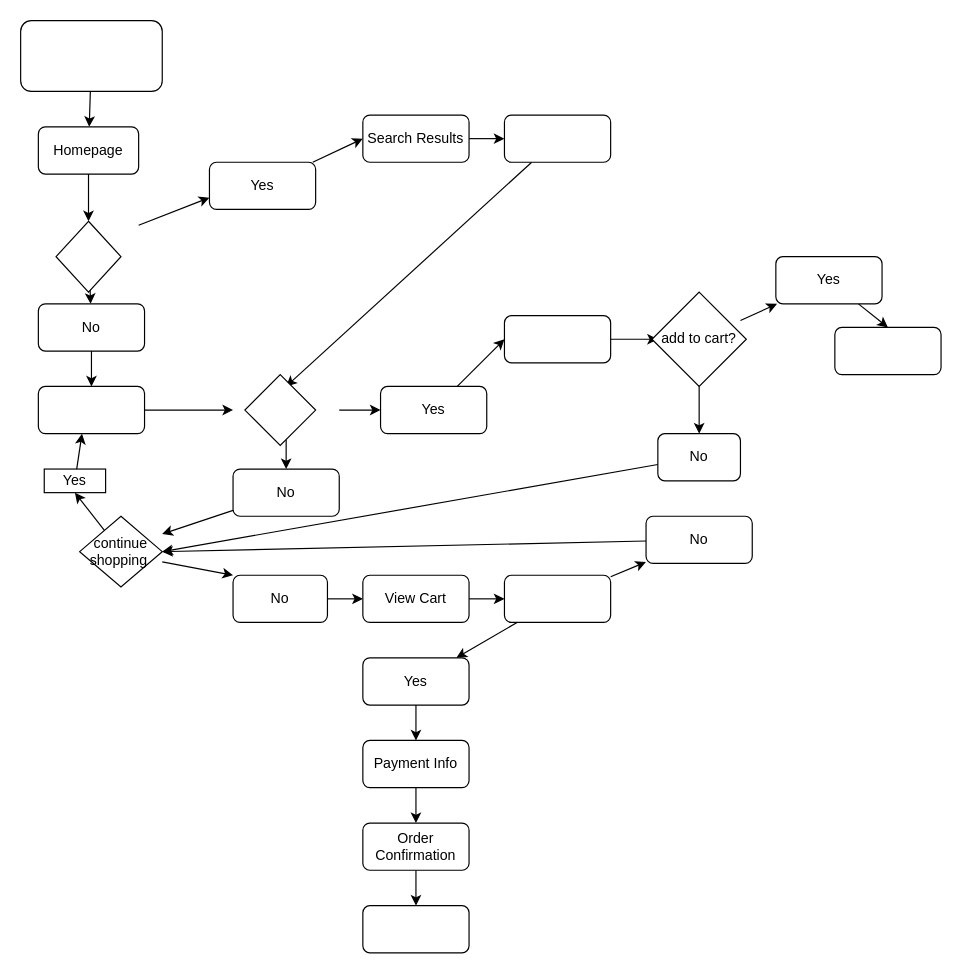
The diagram is 962 pixels wide and 973 high, and some of its shapes have lost their labels. Here are the shapes that lost their labels. From the top down, the centre of each, then its label:
[90,55]: Start
[557,138]: Browse Products
[88,256]: search?
[557,338]: Product Page
[887,350]: "Added" confirmation
[91,409]: Products List
[280,409]: view item?
[557,598]: Checkout
[415,928]: End
